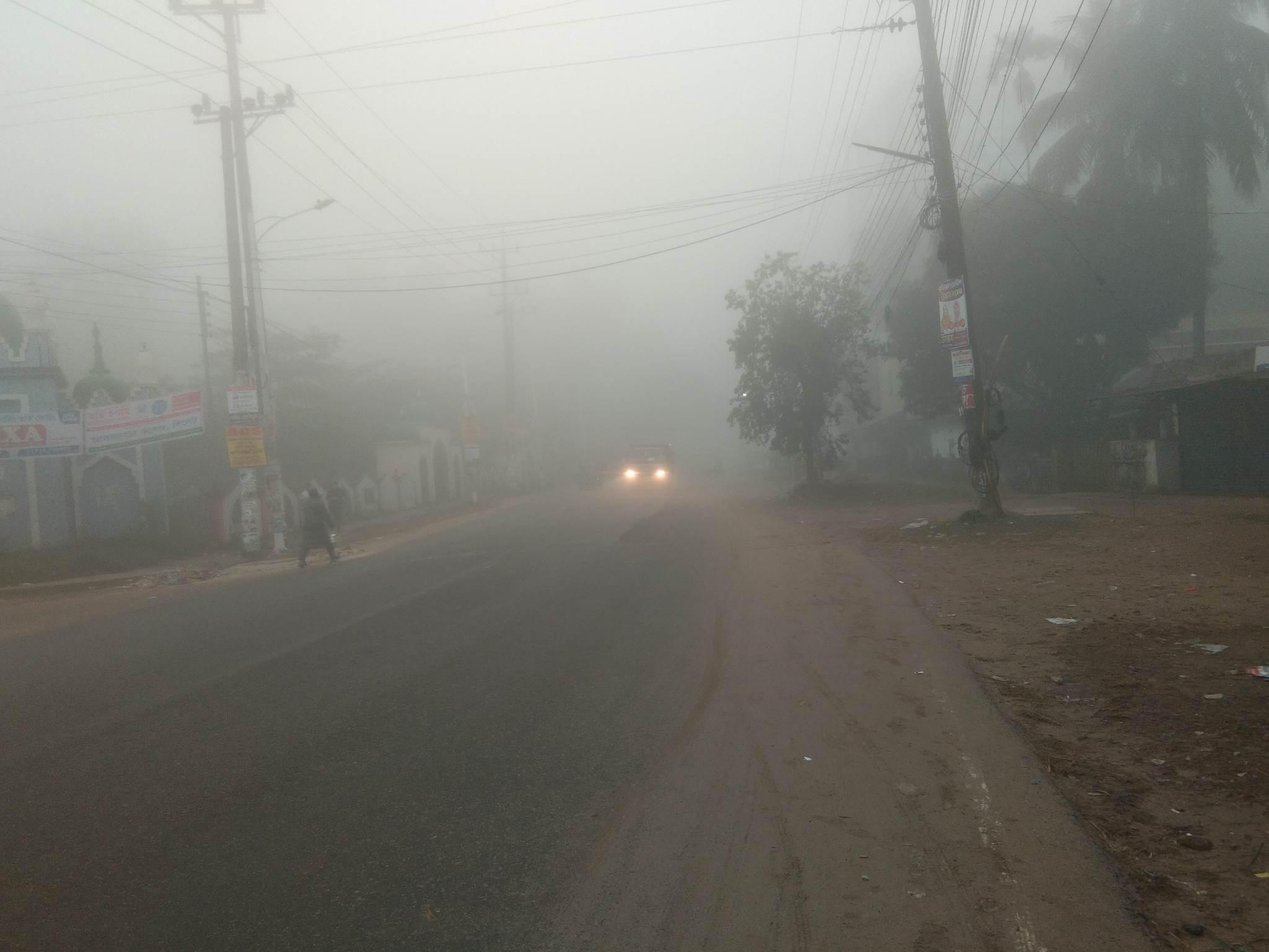Truck: (621, 439, 690, 498)
